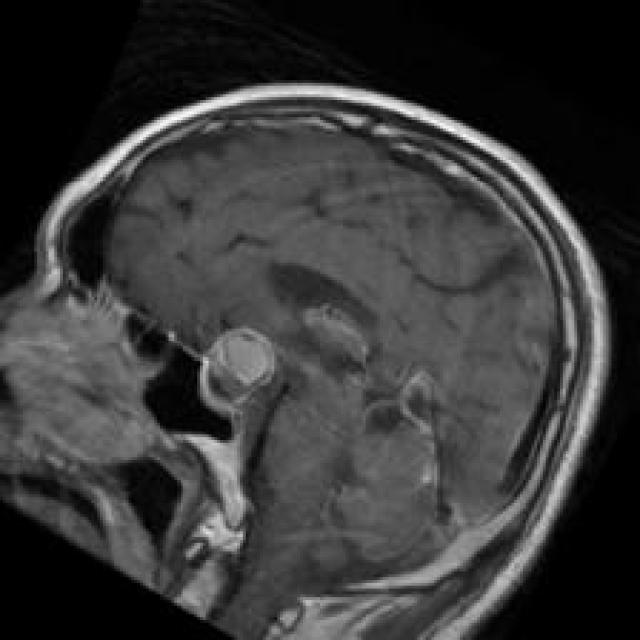pituitary_tumor: (187, 312, 288, 430)
